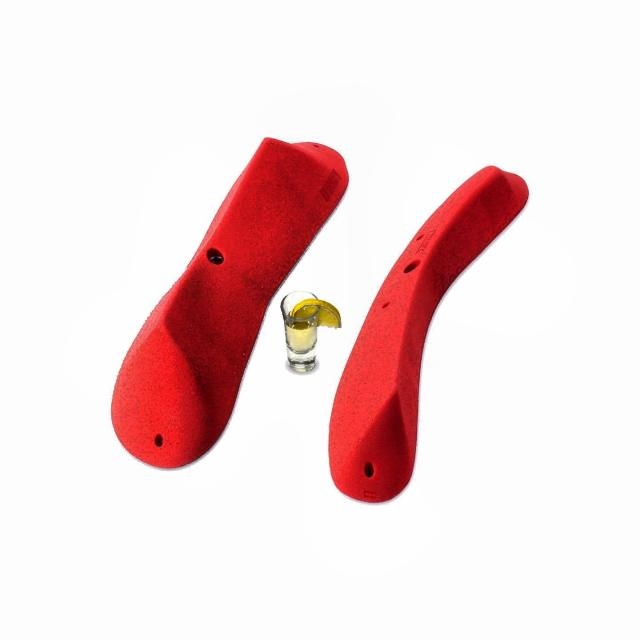Hold: (100, 115, 371, 482), (318, 161, 553, 517)
